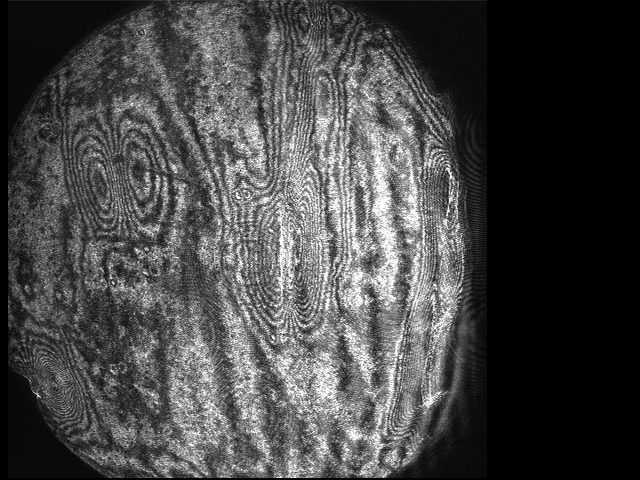plume: (61, 115, 169, 237)
